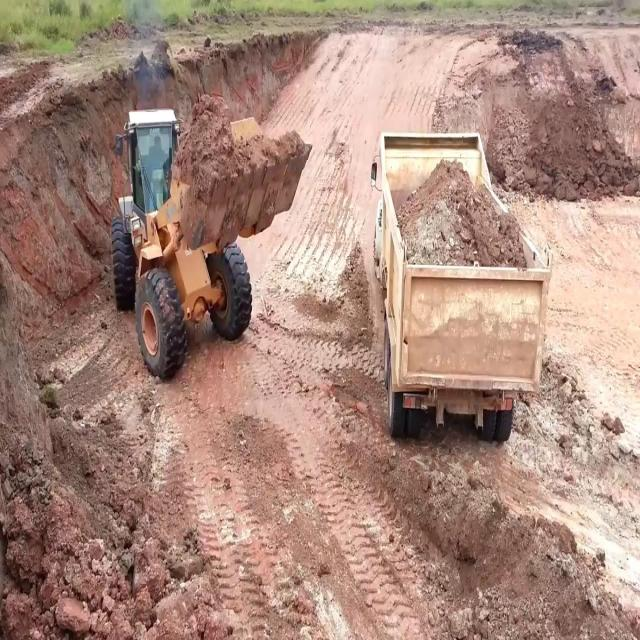Dump Truck: (368, 129, 548, 445)
Loader: (110, 93, 310, 374)
